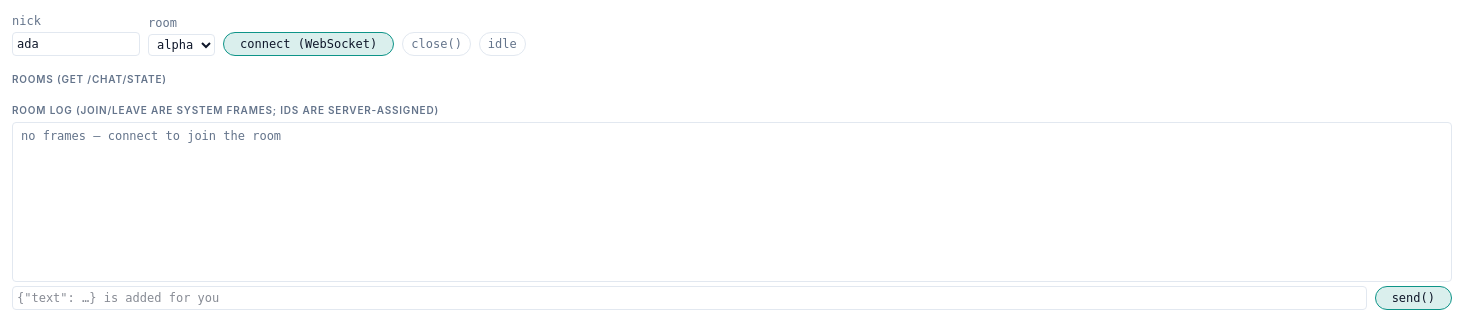
Test: ChatDemo › renders join, say and leave frames and sends the one-shape payload
This screenshot has width=1464, height=336.
Click the button with test id "realtime-chat-connect" at (309,44), box [223,32,394,56]
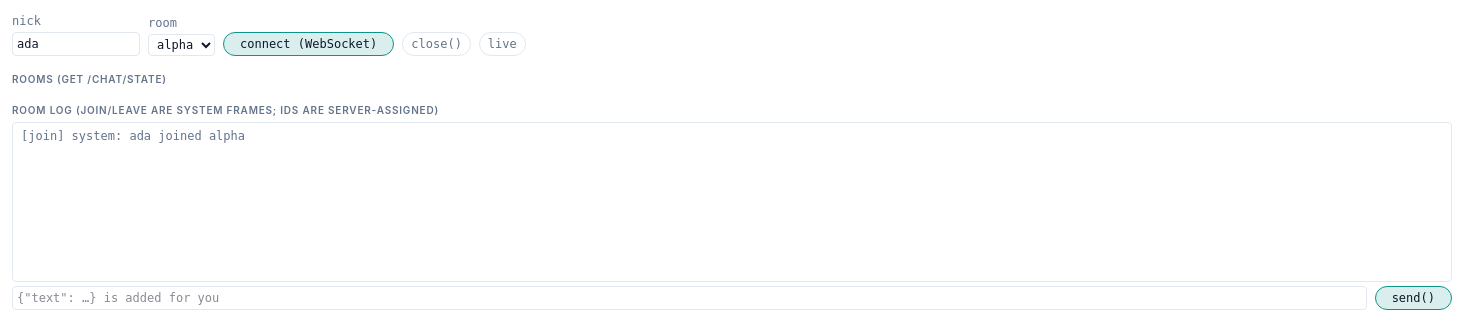
Expected: the element with test id "realtime-chat-log" reads "[join] system: ada joined alpha", [12,122,1452,282]
Type "hello room" into the field with test id "realtime-chat-draft" at (689,298), box [12,286,1367,310]
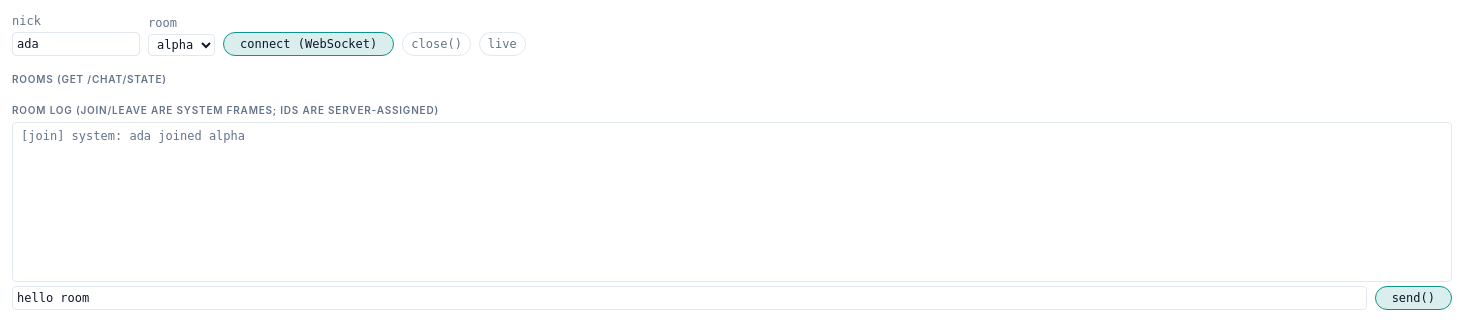
Click the button with test id "realtime-chat-send" at (1413,298), box [1375,286,1452,310]
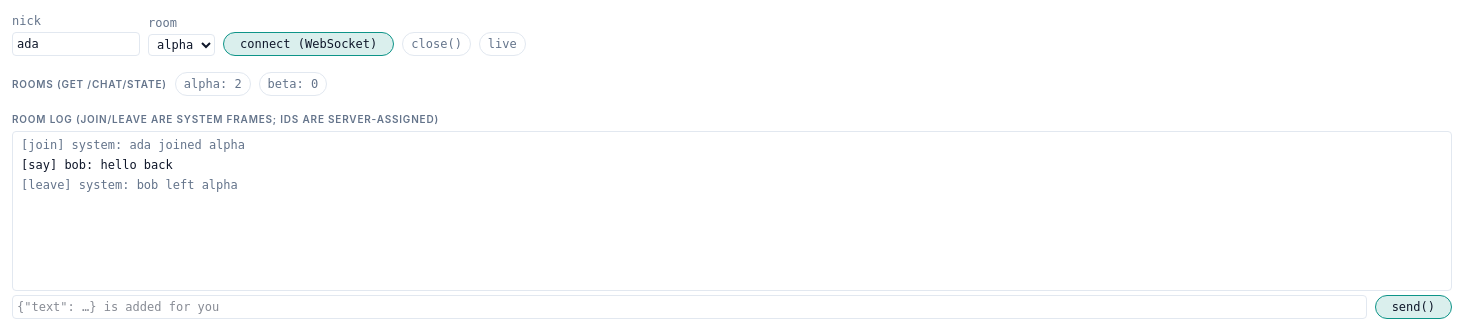
Expected: the field with test id "realtime-chat-draft" is empty, [12,295,1367,319]
Expected: the element with test id "realtime-chat-log" shows "[say] bob: hello back", [12,131,1452,291]
Expected: the element with test id "realtime-chat-log" shows "[leave] system: bob left alpha", [12,131,1452,291]
